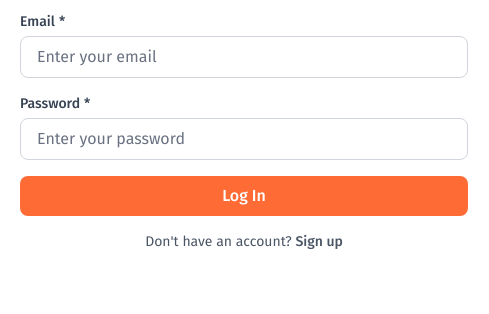
Test: LoginForm Component › Validation › should display error for invalid email format
The image size is (489, 314).
Type "invalid-email" into the field labelled "Email*". click: (244, 57)
box: 20,36 -> 468,78
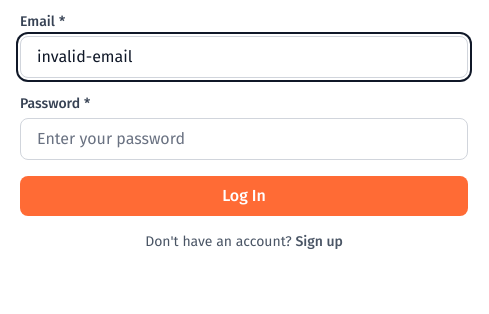
Click the button "Log In". click: (244, 196)
box: 20,176 -> 468,216
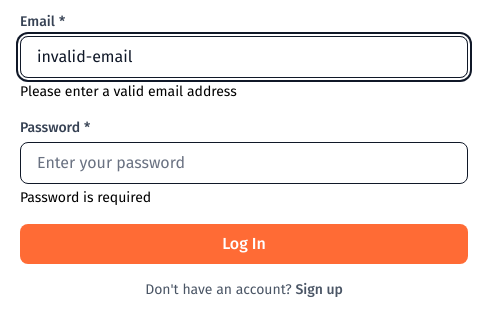
Now the text "Please enter a valid email address" is shown, box 20,83 -> 237,100
